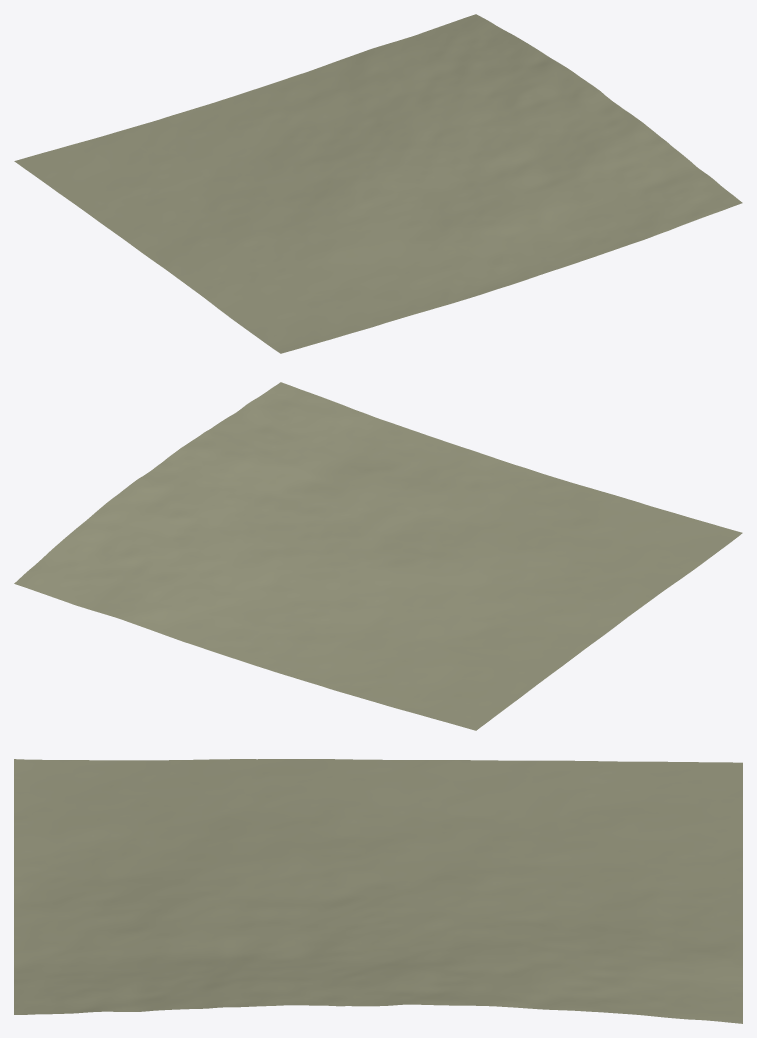
File: SM_VB_CityTerrain_8_5.fbx
3 views of the same model, one above another, from view 1: azimuth 30°, elevation 25°; view 2: azimuth 150°, elevation 25°; view 3: azimuth 270°, elevation 25° (orthographic). The views are drawn at different scales.
Visible parts, largest first — view 1: SM_VB_CityTerrain_8_5; view 2: SM_VB_CityTerrain_8_5; view 3: SM_VB_CityTerrain_8_5.
Part boxes in pixels (<box>): SM_VB_CityTerrain_8_5: <box>14,14,742,353</box>; SM_VB_CityTerrain_8_5: <box>14,382,742,730</box>; SM_VB_CityTerrain_8_5: <box>14,759,742,1023</box>.
Size of the model in its own units: 600 by 59.96 by 600.
